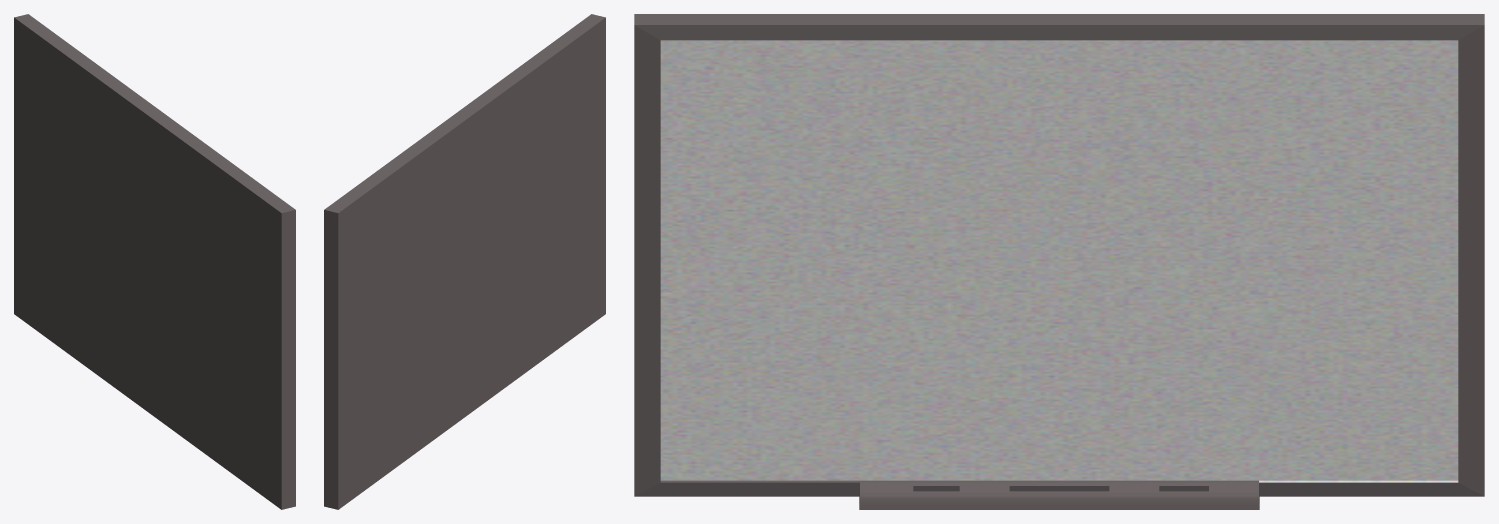
The model's file is whiteBored.fbx.
The picture shows the model from 3 angles, left to right: view 1: azimuth 30°, elevation 25°; view 2: azimuth 150°, elevation 25°; view 3: azimuth 270°, elevation 25°; orthographic projection. The views are drawn at different scales.
Parts seen in each view (by area): view 1: Cube; view 2: Cube; view 3: Cube.
Boxes of the visible parts, bbox=[...] form: Cube: bbox=[14, 14, 295, 509]; Cube: bbox=[324, 14, 605, 509]; Cube: bbox=[634, 14, 1484, 509].
Size of the model in its own units: 71.4 by 708 by 1152.
